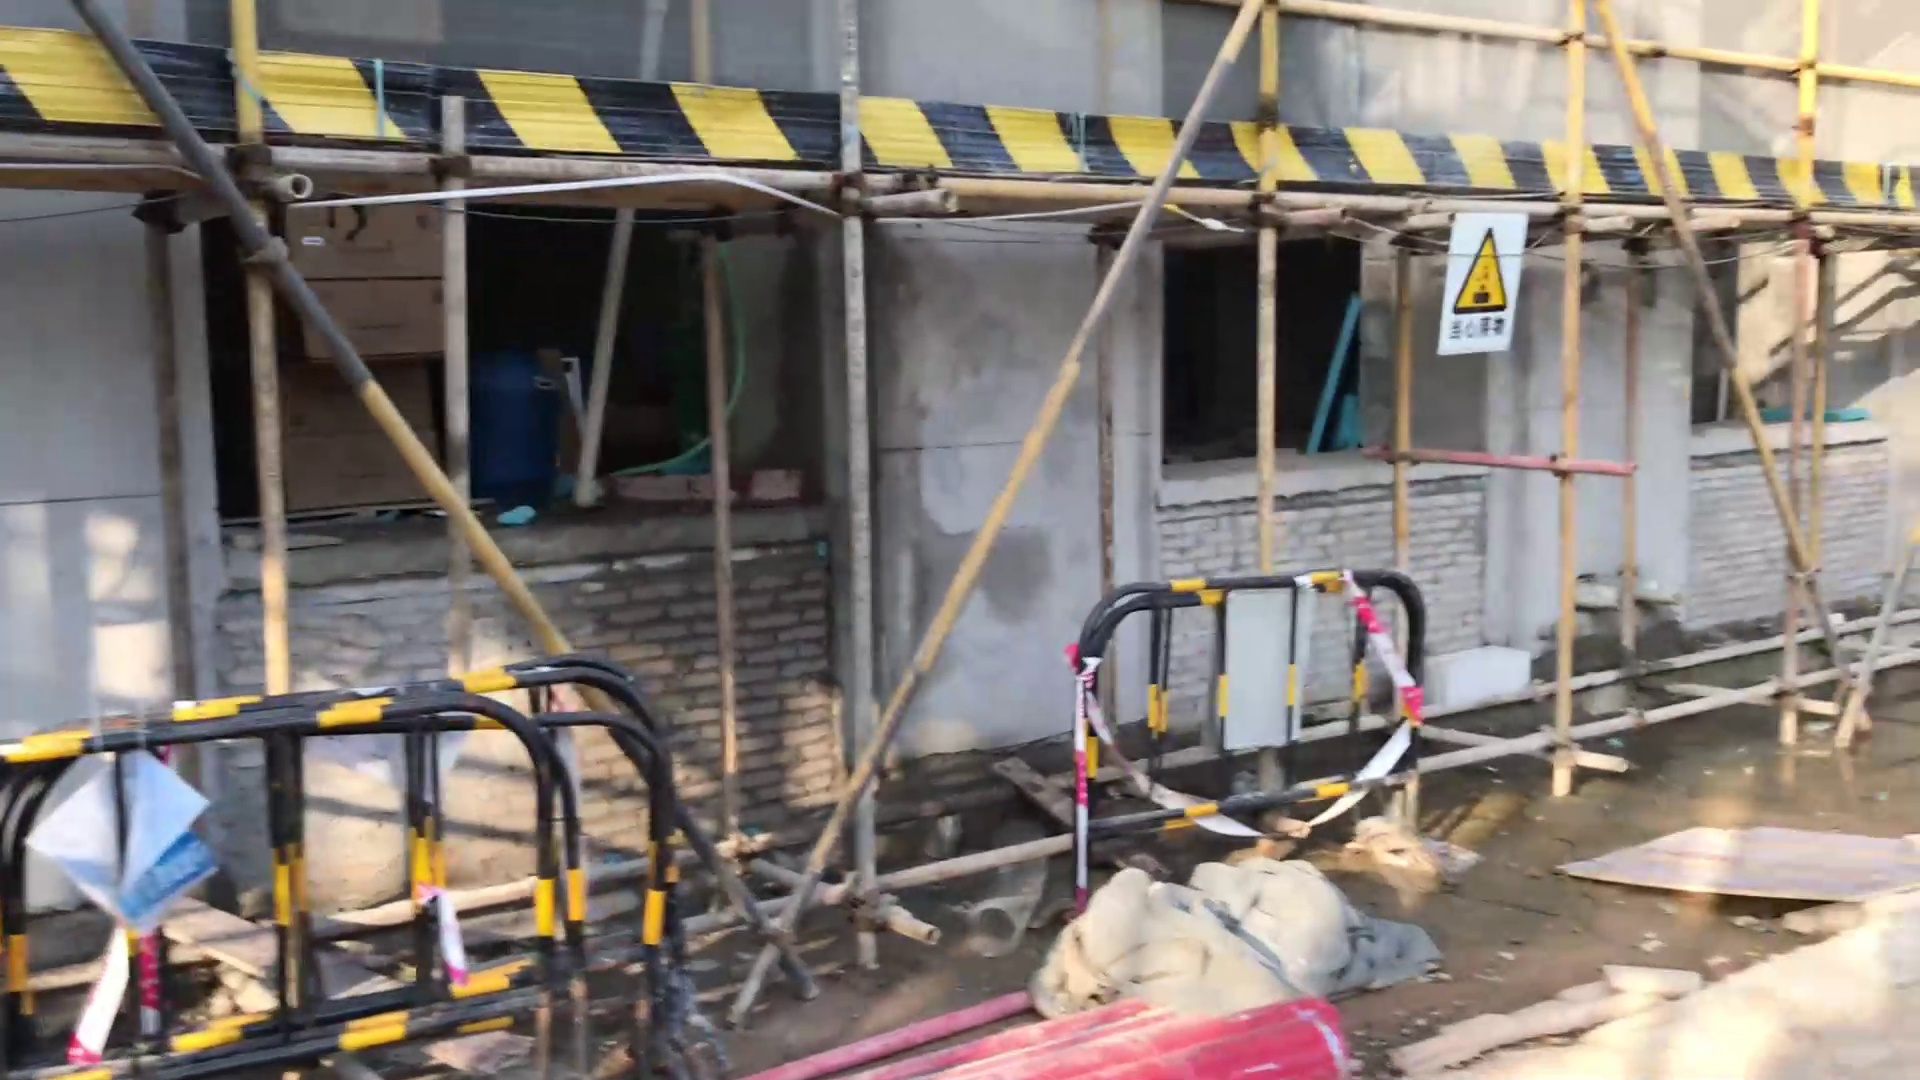fence: (1, 647, 737, 1080), (1030, 556, 1429, 920)
slogan: (1439, 215, 1522, 353)
